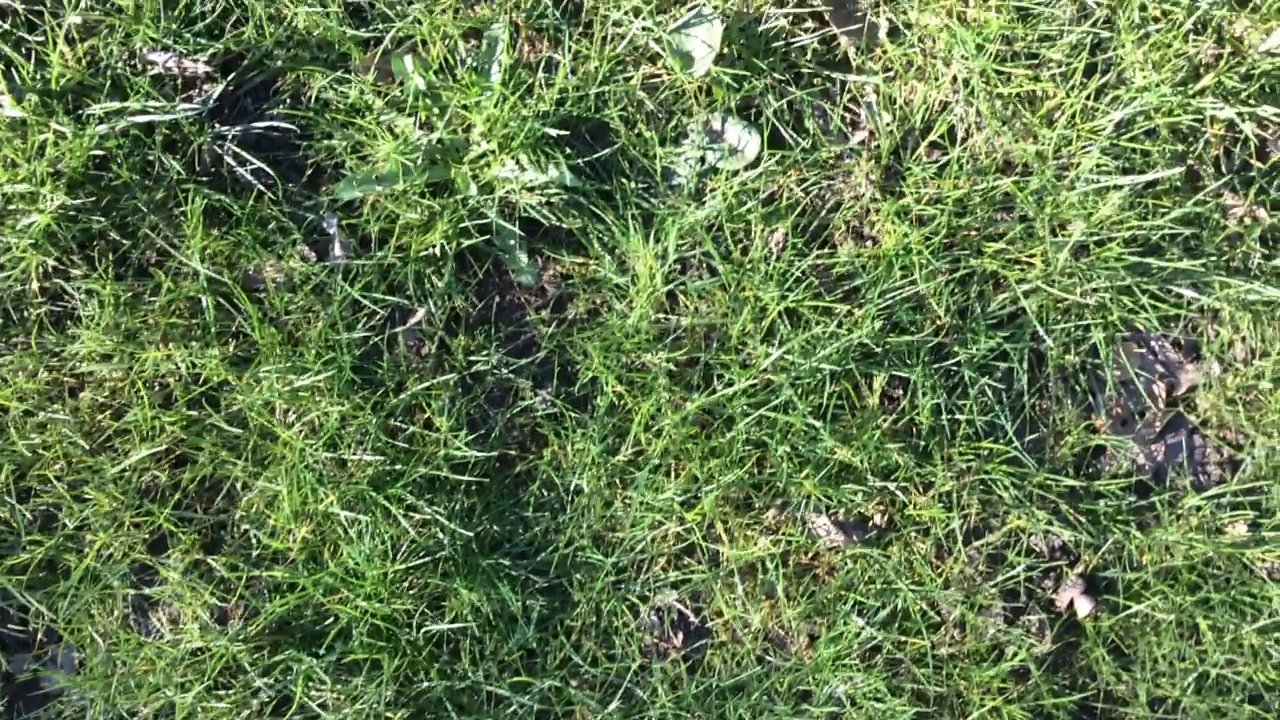rumex: (665, 4, 726, 78), (690, 116, 760, 170)
